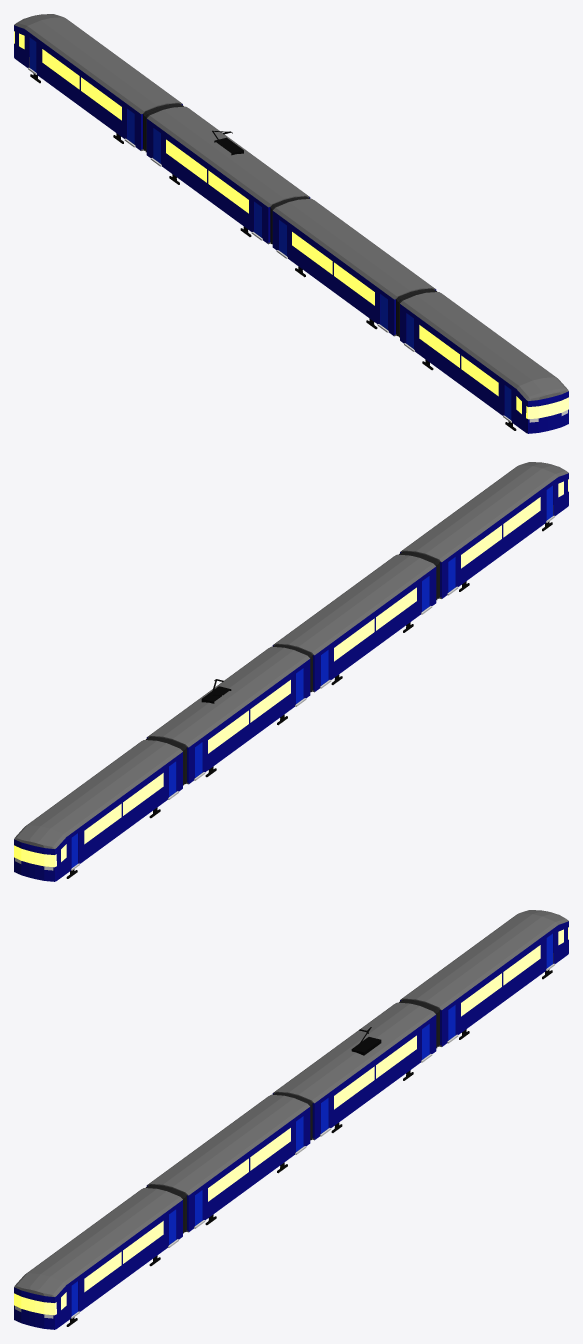
The model's file is train.glb.
3 renders of one model, top to bottom at view 1: azimuth 30°, elevation 25°; view 2: azimuth 150°, elevation 25°; view 3: azimuth 330°, elevation 25°, orthographic.
Visible parts, largest first — view 1: Cube.005; view 2: Cube.005; view 3: Cube.005.
Boxes of the visible parts, left/top/right/bottom form: Cube.005: left=14, top=14, right=568, bottom=433; Cube.005: left=14, top=462, right=568, bottom=881; Cube.005: left=14, top=910, right=568, bottom=1329.
Bounding box in the file's own units: 5.27 × 7.41 × 106.
